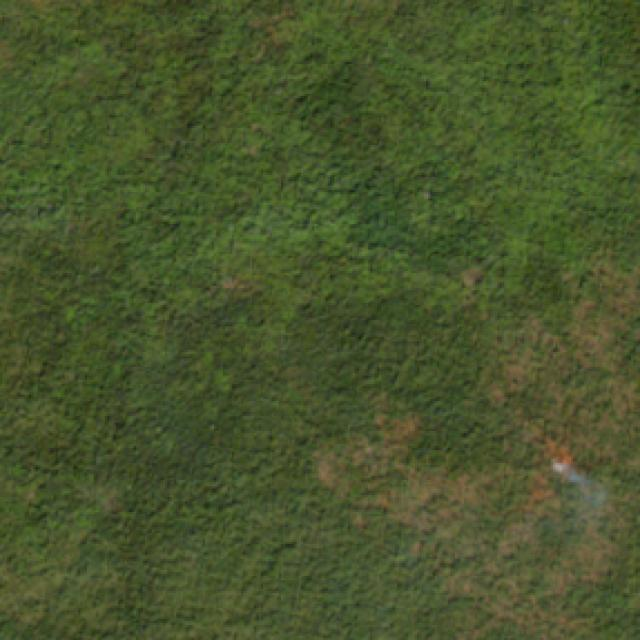wildfire: (540, 425, 619, 518)
